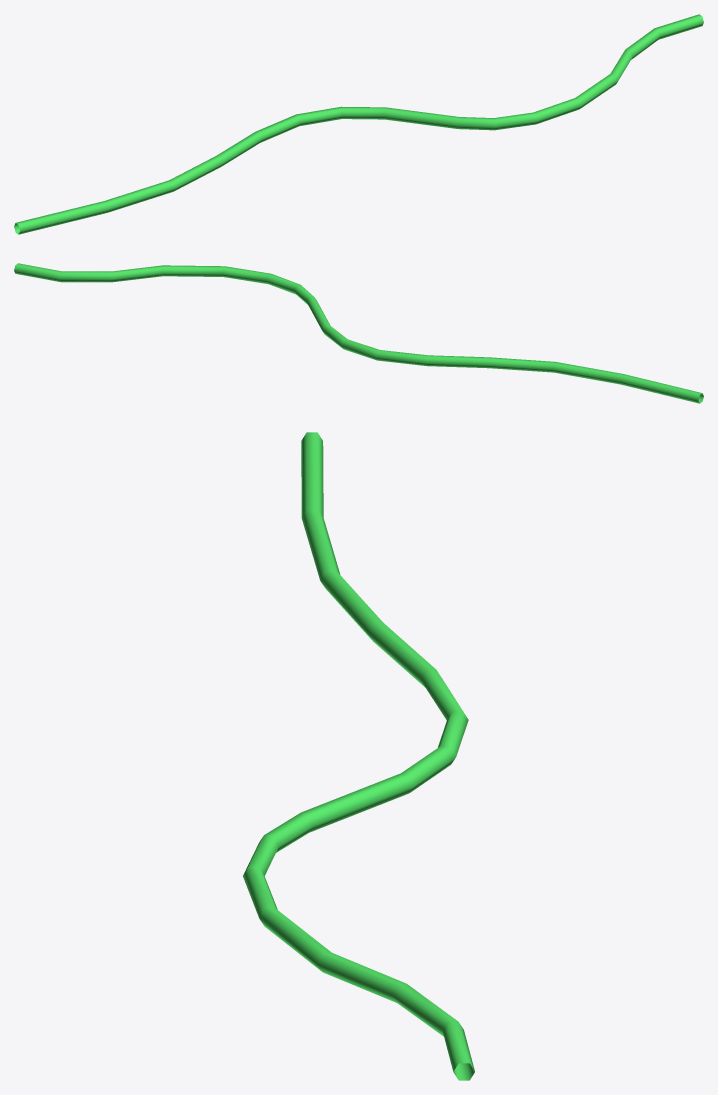
File: Wire_02_F.fbx
3 renders of one model, top to bottom at view 1: azimuth 30°, elevation 25°; view 2: azimuth 150°, elevation 25°; view 3: azimuth 270°, elevation 25°, orthographic. The views are drawn at different scales.
Parts seen in each view (by area): view 1: Wire_02_F; view 2: Wire_02_F; view 3: Wire_02_F.
Part boxes in pixels (x1=…): Wire_02_F: x1=14, y1=14, x2=703, y2=234; Wire_02_F: x1=14, y1=263, x2=703, y2=403; Wire_02_F: x1=243, y1=432, x2=474, y2=1080.
Size of the model in its own units: 173 by 2.2 by 26.94.
